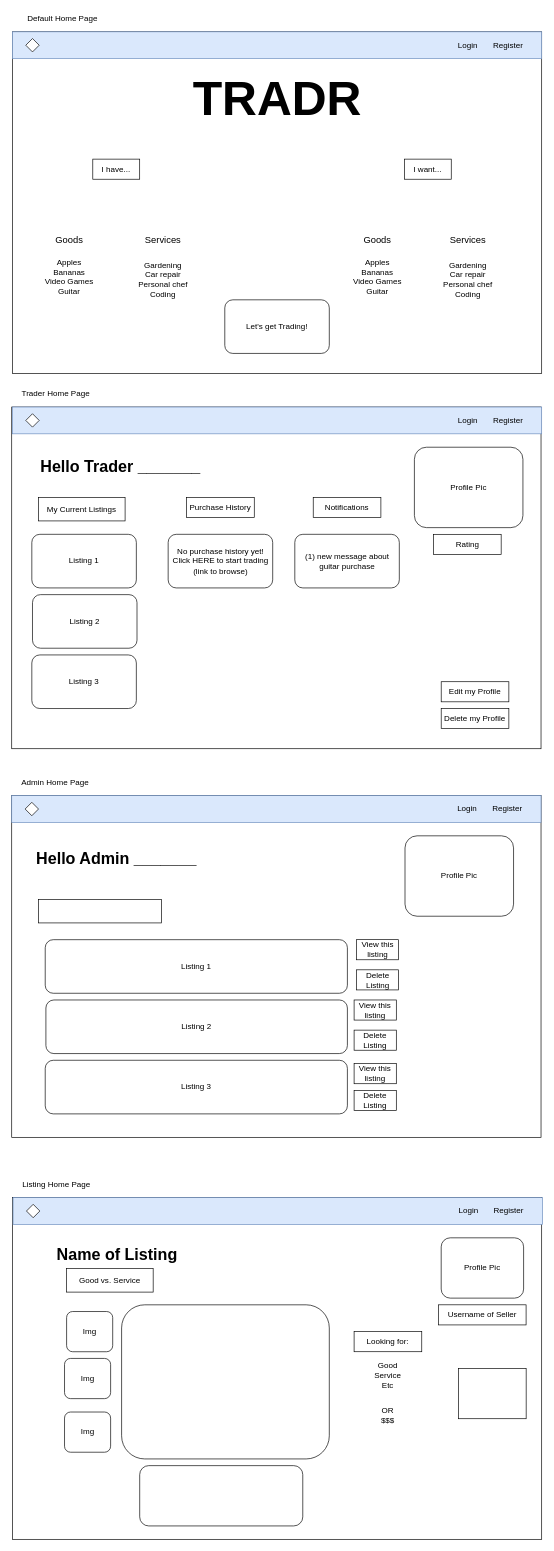
This 554x1551 diagram has some shape labels left out. The centre of each missing label's shape, as x and y in pixels:
"Current Active Listings" goes at (x=99, y=911).
"Description of product, condition, etc." goes at (x=221, y=1495).
"Let's TRADE!" goes at (x=492, y=1393).
"Main Image" goes at (x=225, y=1381).
